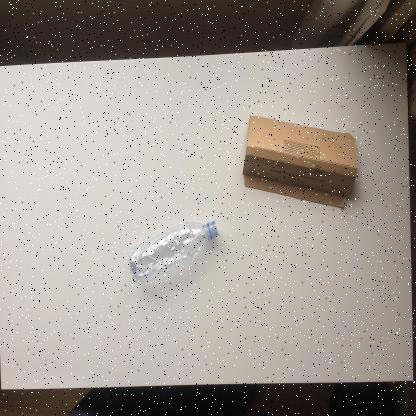cardboard: (242, 114, 358, 208)
plastic: (129, 220, 219, 284)
